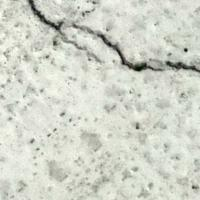crack: (26, 0, 199, 95)
